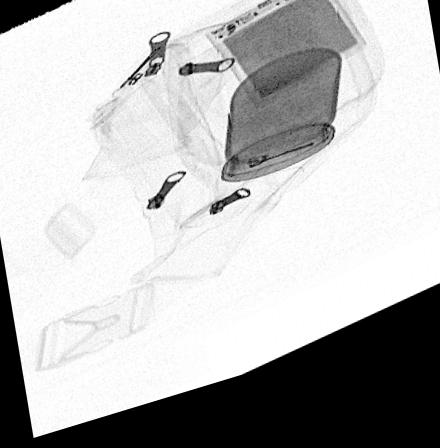Powerbank: (203, 0, 367, 123)
